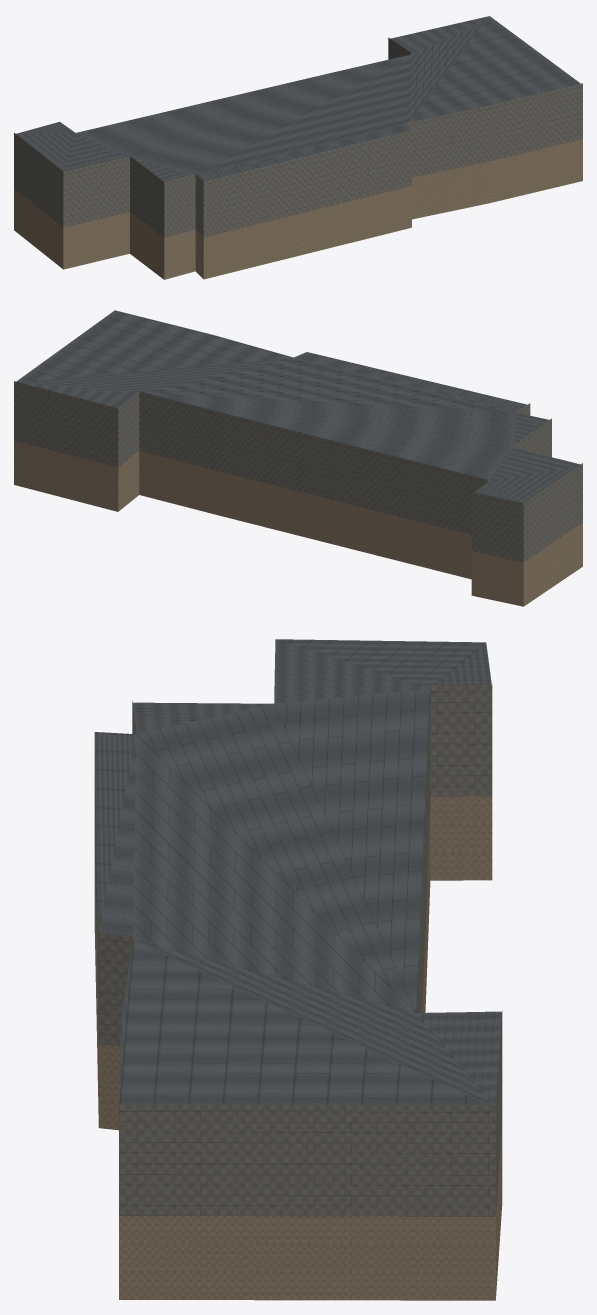
The model's file is core_0153.gltf.
3 renders of one model, top to bottom at view 1: azimuth 30°, elevation 25°; view 2: azimuth 150°, elevation 25°; view 3: azimuth 270°, elevation 25°, orthographic. The views are drawn at different scales.
Visible parts, largest first — view 1: core_0153; view 2: core_0153; view 3: core_0153.
Part boxes in pixels (x1=…): core_0153: x1=14, y1=16, x2=582, y2=279; core_0153: x1=14, y1=310, x2=582, y2=606; core_0153: x1=94, y1=639, x2=502, y2=1300.
Bounding box in the file's own units: 61.16 × 11.88 × 22.44.
3 materials, 3 textured.
